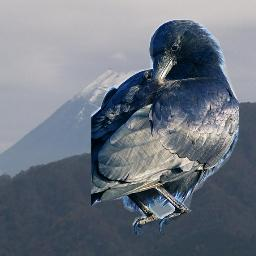Crow: (91, 19, 239, 235)
